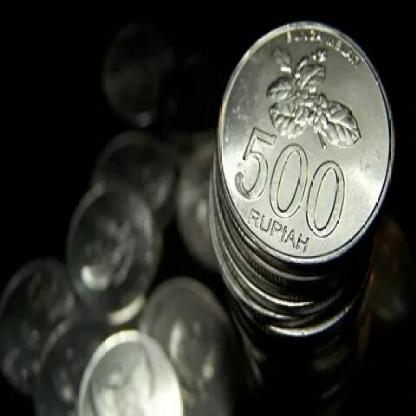coin_500_e2003: (215, 19, 401, 271)
